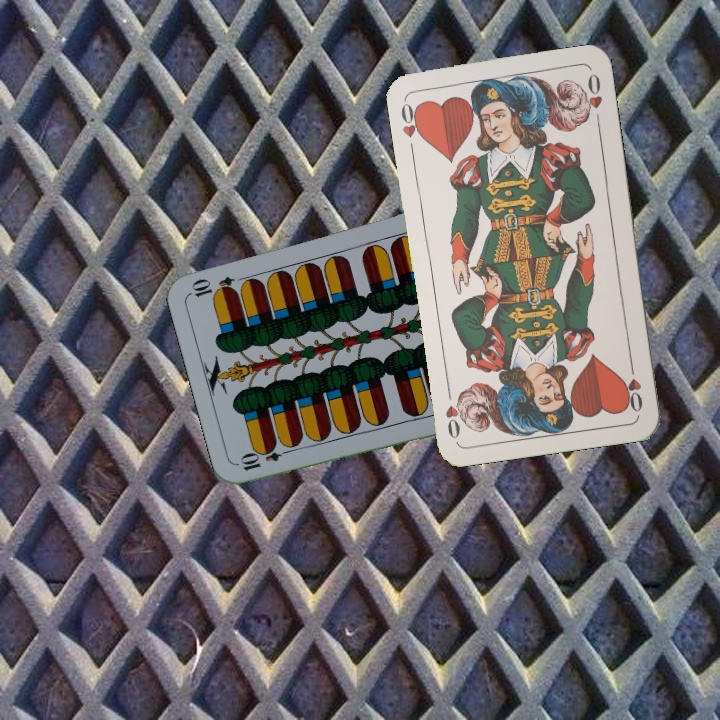E10: (236, 443, 295, 474)
HO: (621, 356, 645, 415), (397, 95, 426, 143)
